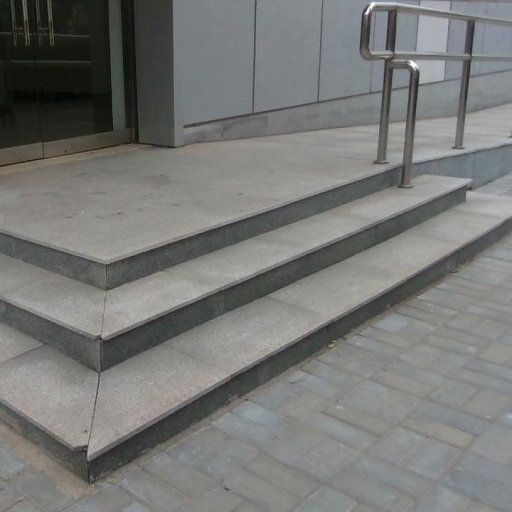Stairs: (0, 185, 512, 478)
